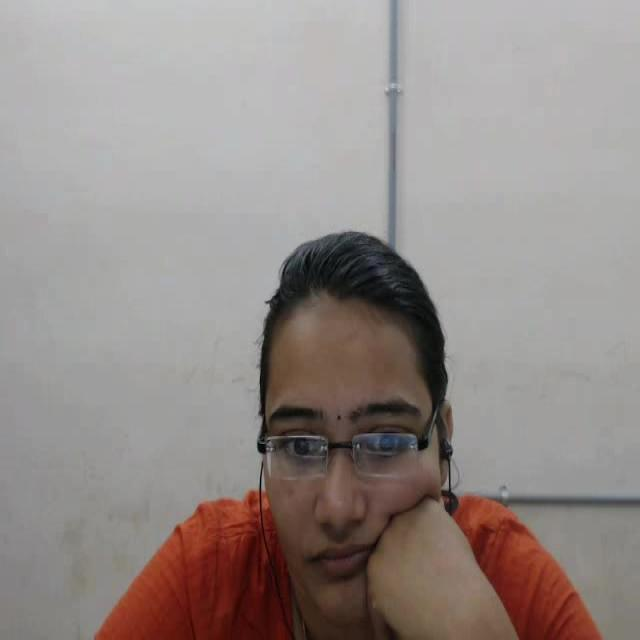Bored: (232, 196, 515, 640)
